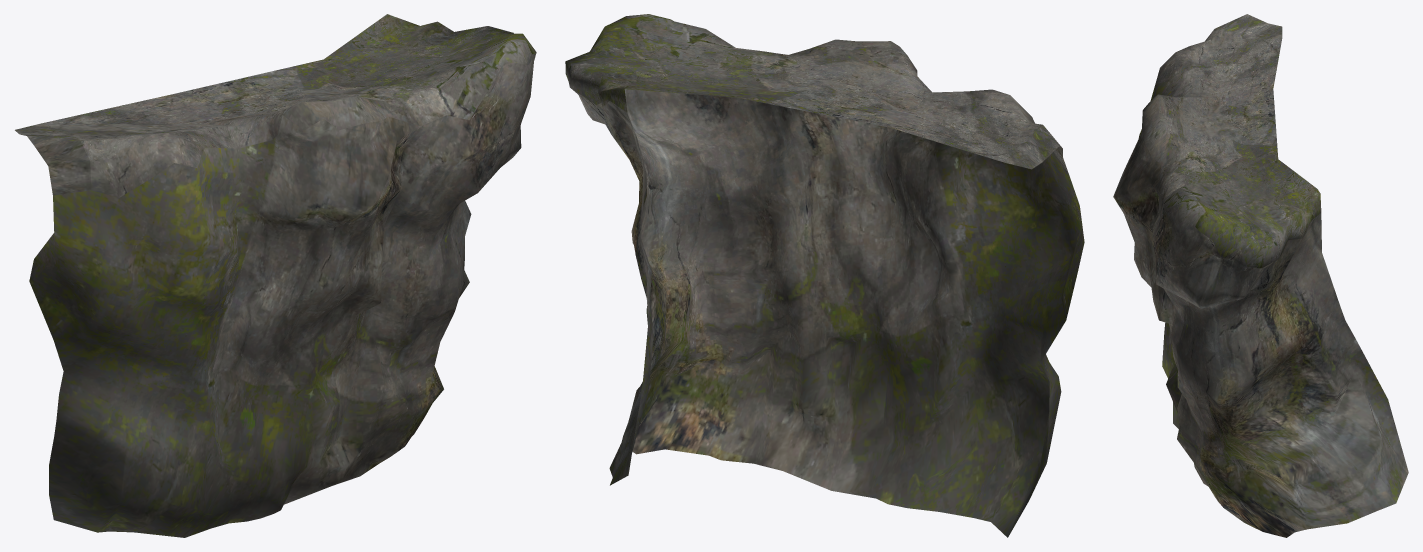
Rendered from Rock20.fbx.
3 renders of one model, left to right at view 1: azimuth 30°, elevation 25°; view 2: azimuth 150°, elevation 25°; view 3: azimuth 270°, elevation 25°, orthographic. The views are drawn at different scales.
Parts seen in each view (by area): view 1: LV_Campagna_MoleCricketsDen_piece1_SM_KSV; view 2: LV_Campagna_MoleCricketsDen_piece1_SM_KSV; view 3: LV_Campagna_MoleCricketsDen_piece1_SM_KSV.
Boxes of the visible parts, <box> form: LV_Campagna_MoleCricketsDen_piece1_SM_KSV: <box>15,14,536,537</box>; LV_Campagna_MoleCricketsDen_piece1_SM_KSV: <box>565,14,1084,537</box>; LV_Campagna_MoleCricketsDen_piece1_SM_KSV: <box>1113,14,1408,537</box>.
Size of the model in its own units: 3.7 by 3.05 by 2.13.
1 material, 1 textured.
